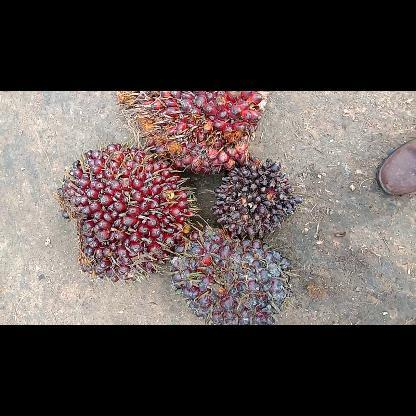Kurang masak: (54, 141, 198, 283), (170, 224, 294, 324)
TBS abnormal: (214, 157, 302, 243)
TBS masak: (113, 90, 264, 176)
